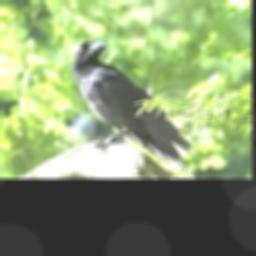Crow: (72, 38, 193, 175)
